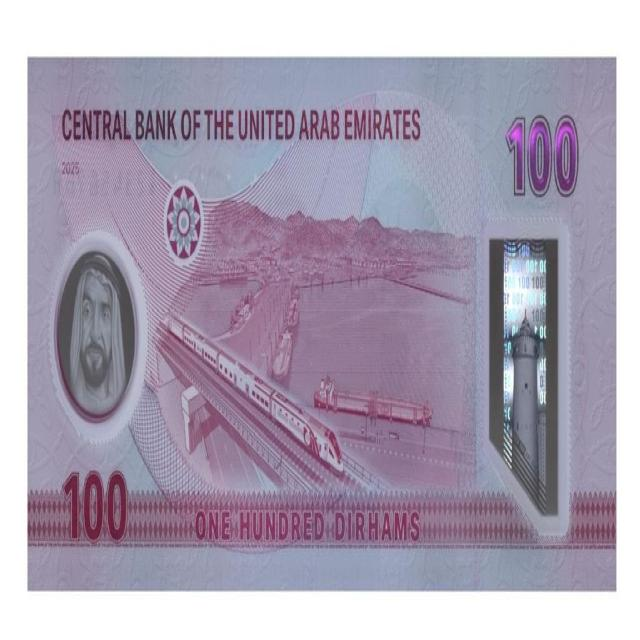100_AED: (29, 59, 616, 588)
